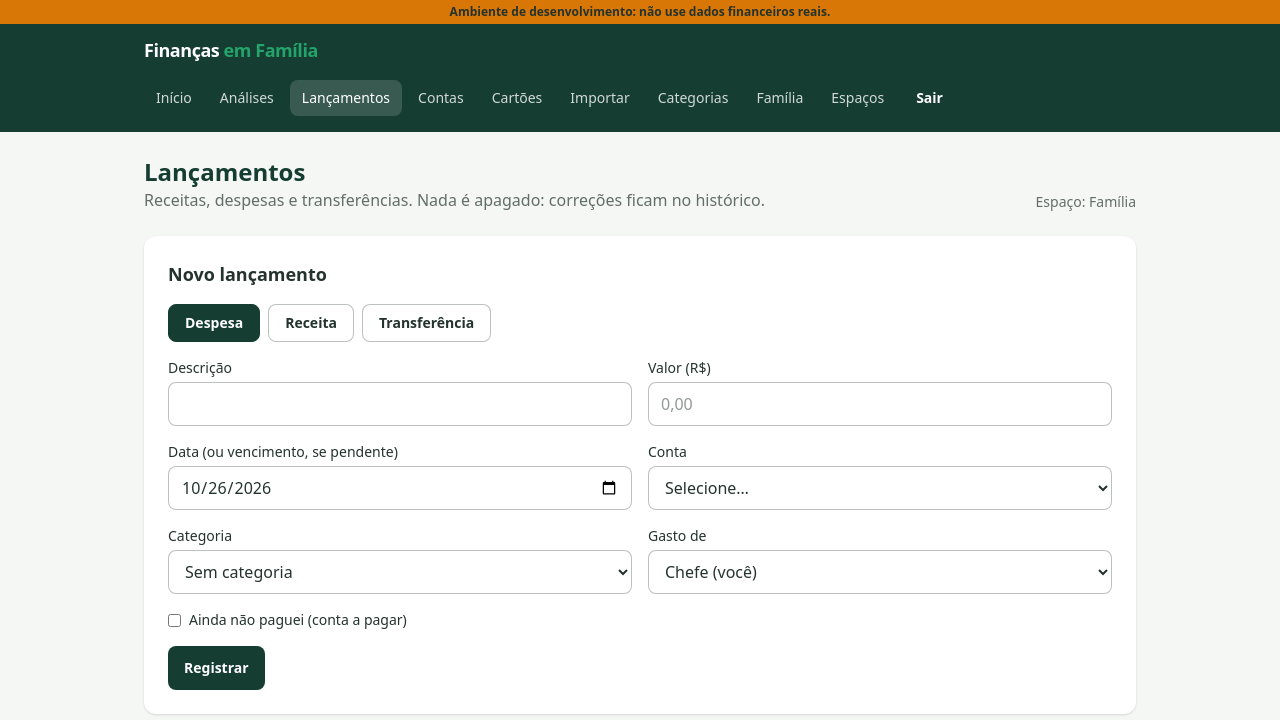
Test case: Lançamentos › registra despesa pendente com valor em centavos
Type "Conta de luz" into the field labelled "Descrição" at [400, 404], box left=168, top=382, right=632, bottom=426
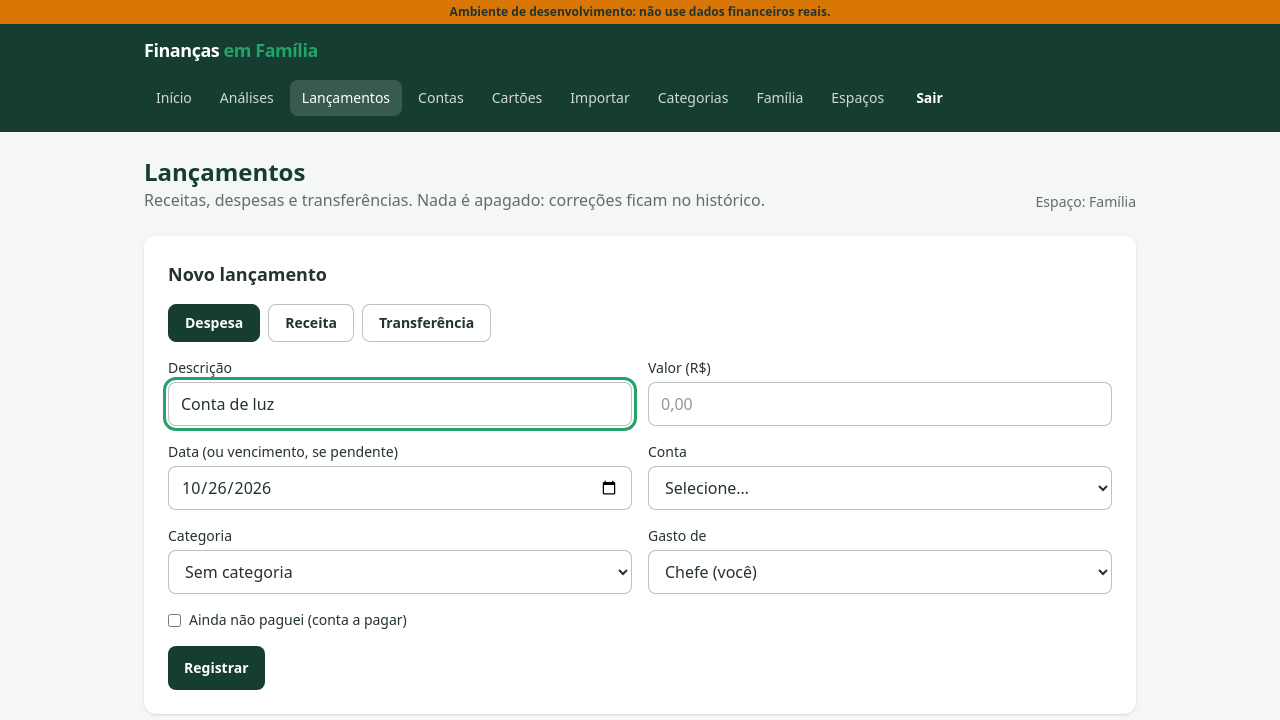
Type "189,90" into the field labelled "Valor (R$)" at [880, 404], box left=648, top=382, right=1112, bottom=426
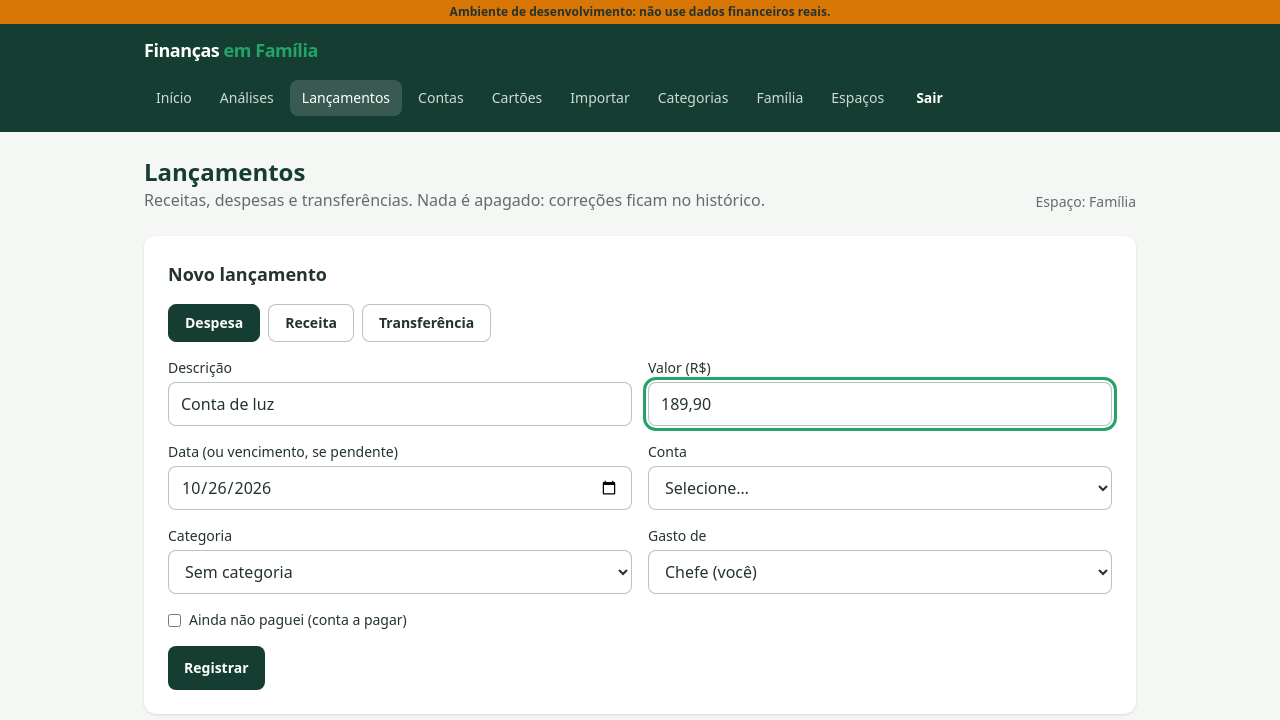
Select "Nubank · Conta corrente" in the dropdown labelled "Conta" at [880, 488], box left=648, top=466, right=1112, bottom=510
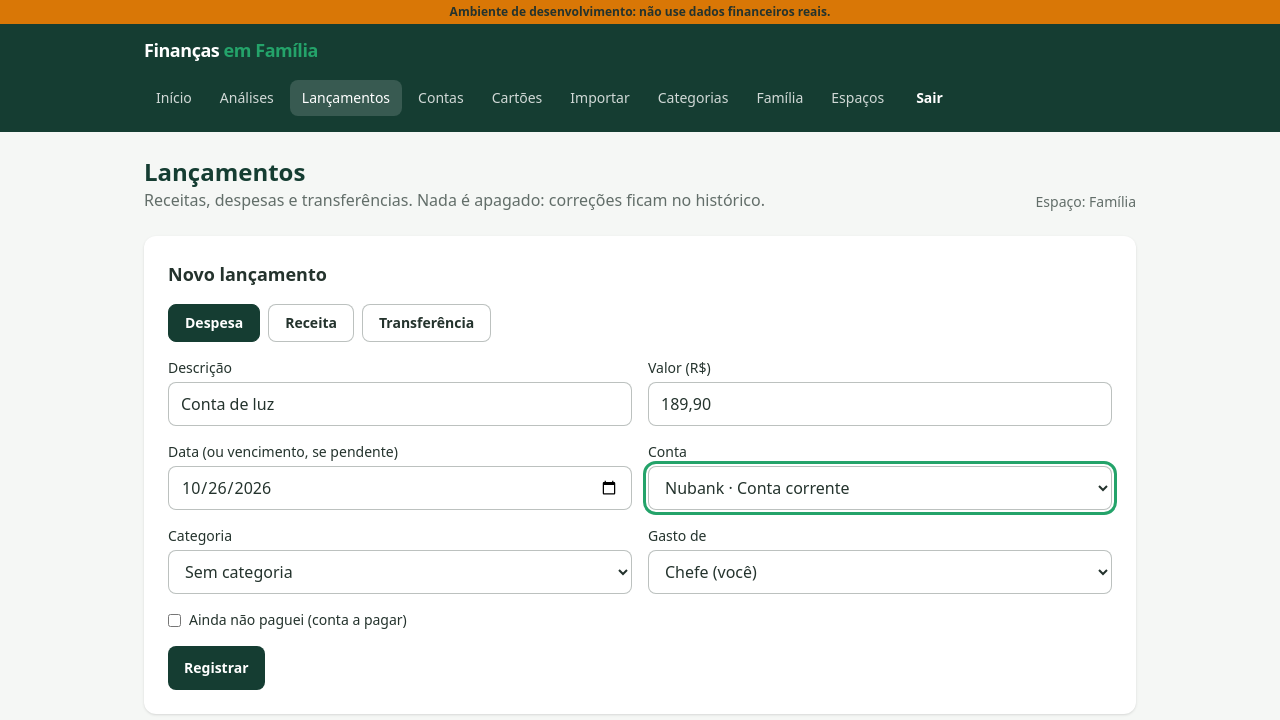
Click the checkbox labelled "Ainda não paguei (conta a pagar)" at [174, 620], box left=168, top=614, right=181, bottom=626
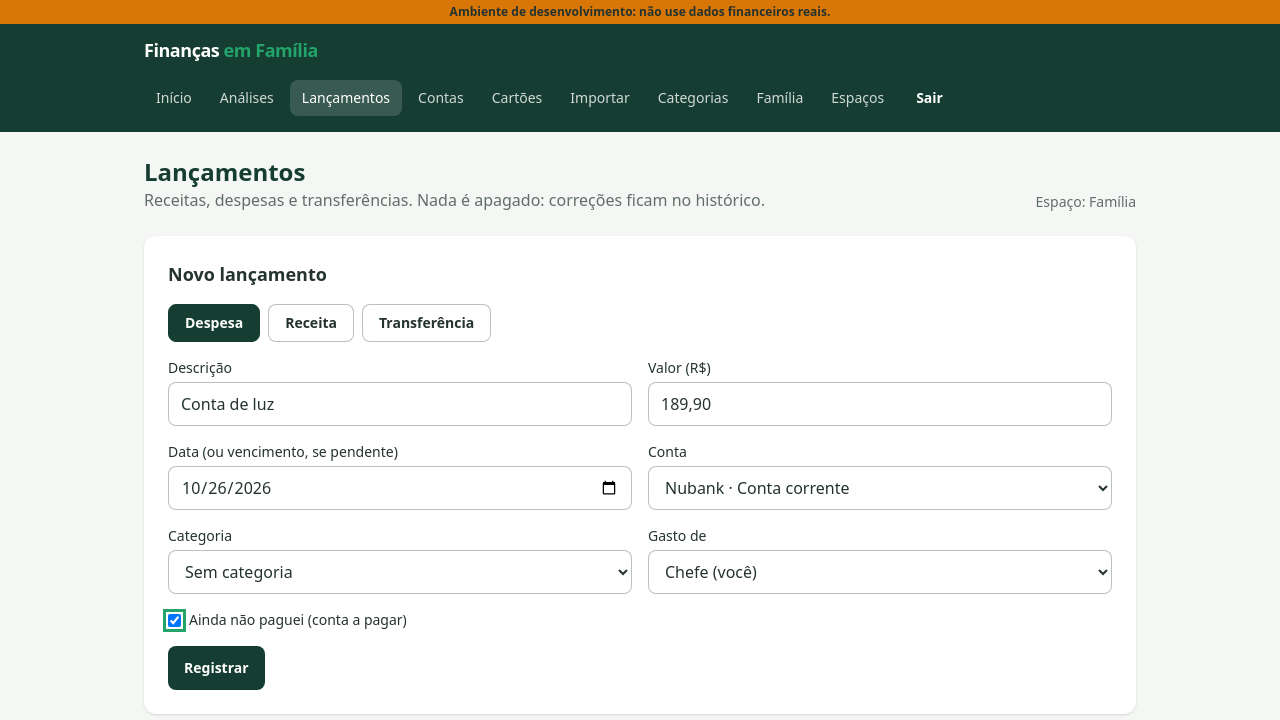
Click the button "Registrar" at [216, 668], box left=168, top=646, right=265, bottom=690
(page scrolled)
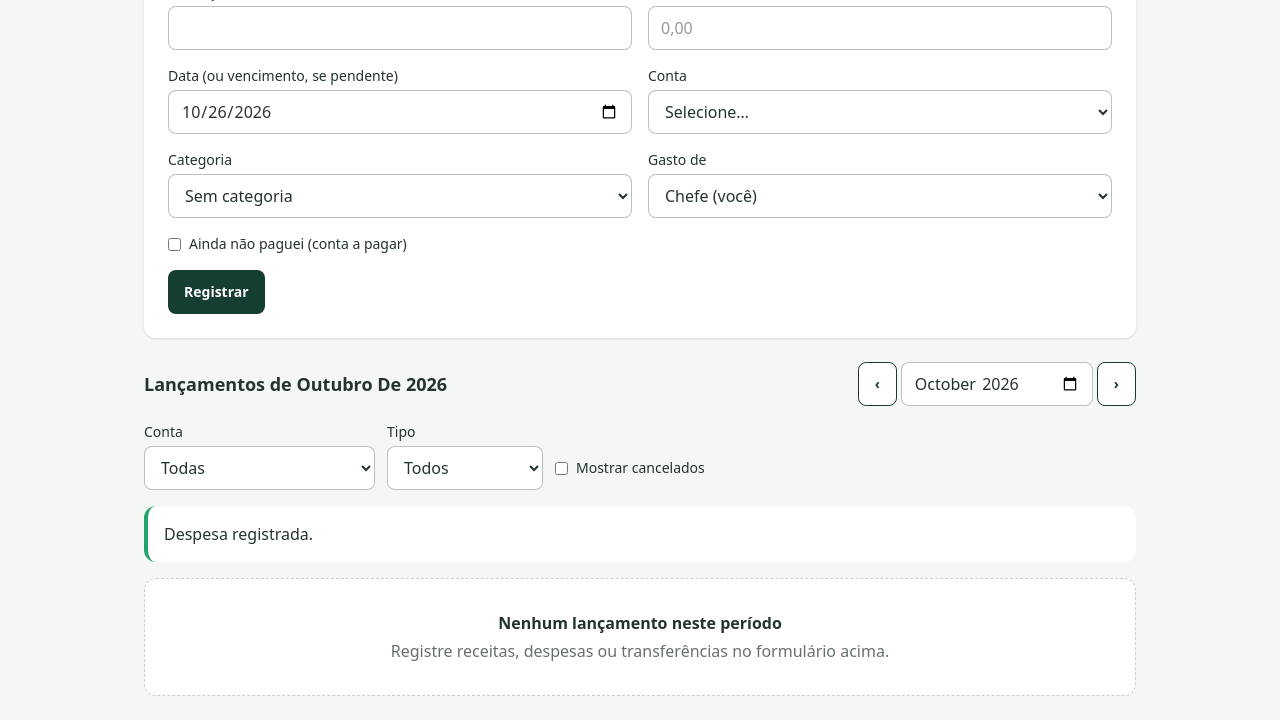
expect the text "Despesa registrada." is shown: met, box left=144, top=506, right=1136, bottom=562
